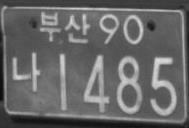0: (122, 14, 144, 45)
1: (50, 53, 76, 112)
4: (82, 54, 110, 113)
5: (150, 55, 176, 117)
8: (115, 55, 143, 115)
9: (98, 13, 119, 45)
나: (12, 51, 41, 92)
부산_O: (39, 11, 90, 43)
